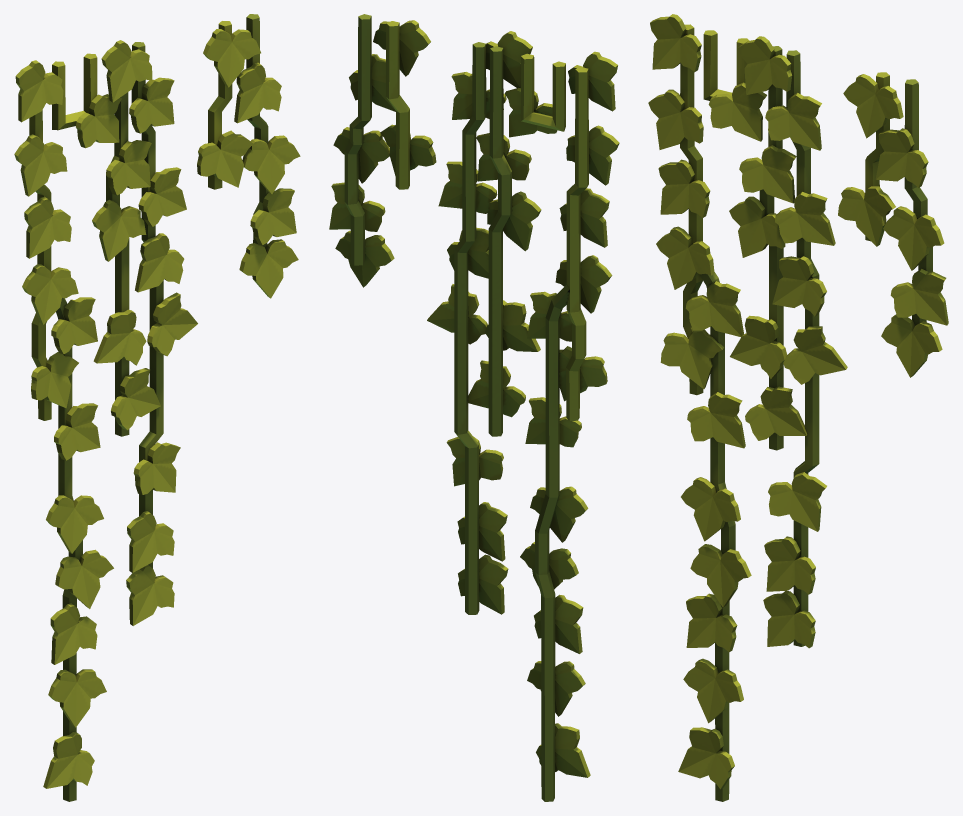
Rendered from PUSHILIN_ivy.obj.
The picture shows the model from 3 angles, left to right: view 1: azimuth 30°, elevation 25°; view 2: azimuth 150°, elevation 25°; view 3: azimuth 330°, elevation 25°; orthographic projection. The views are drawn at different scales.
Visible parts, largest first — view 1: ivy; view 2: ivy; view 3: ivy.
Boxes of the visible parts, bbox=[...] form: ivy: bbox=[14, 14, 300, 801]; ivy: bbox=[329, 14, 619, 801]; ivy: bbox=[648, 14, 948, 801].
Bounding box in the file's own units: 0.9186 × 2.32 × 0.0937.
Materials: 1 (1 with a texture image).
